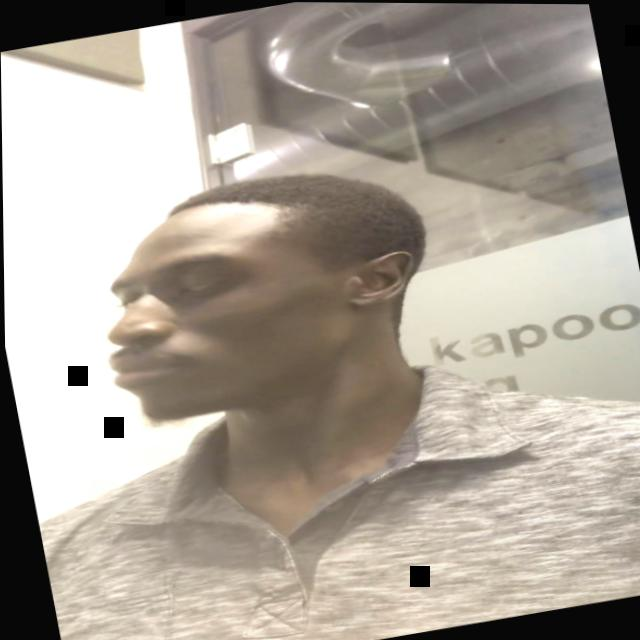NO-Mask: (80, 183, 392, 433)
